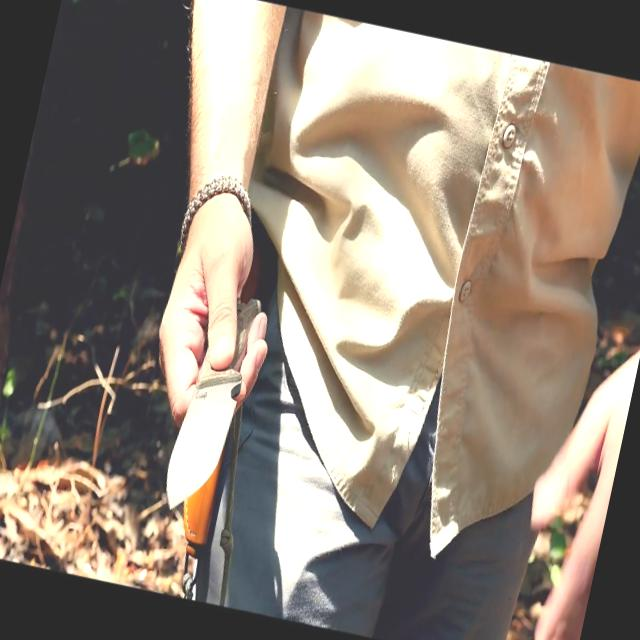knife: (118, 272, 283, 530)
